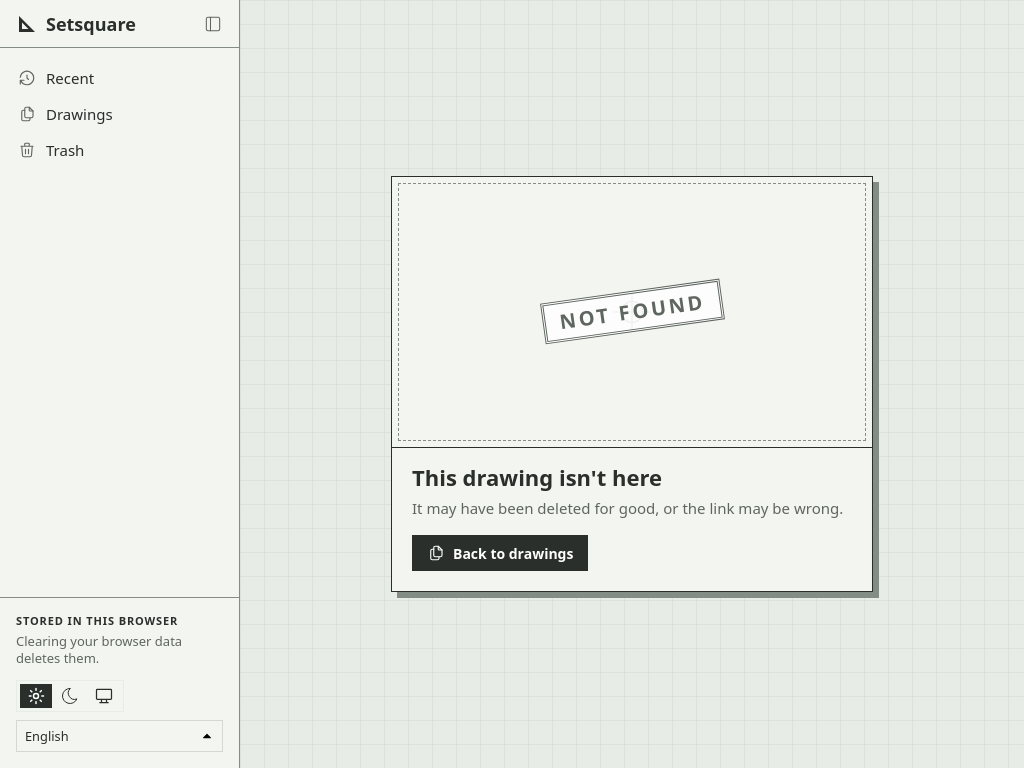
Test: web app boot › says when the drawing isn't there, and goes back to the drawings
Expected: the heading "This drawing isn't here" is shown, [412,462,662,492]
Click the button "Back to drawings" at (500, 553), box [412,535,588,571]
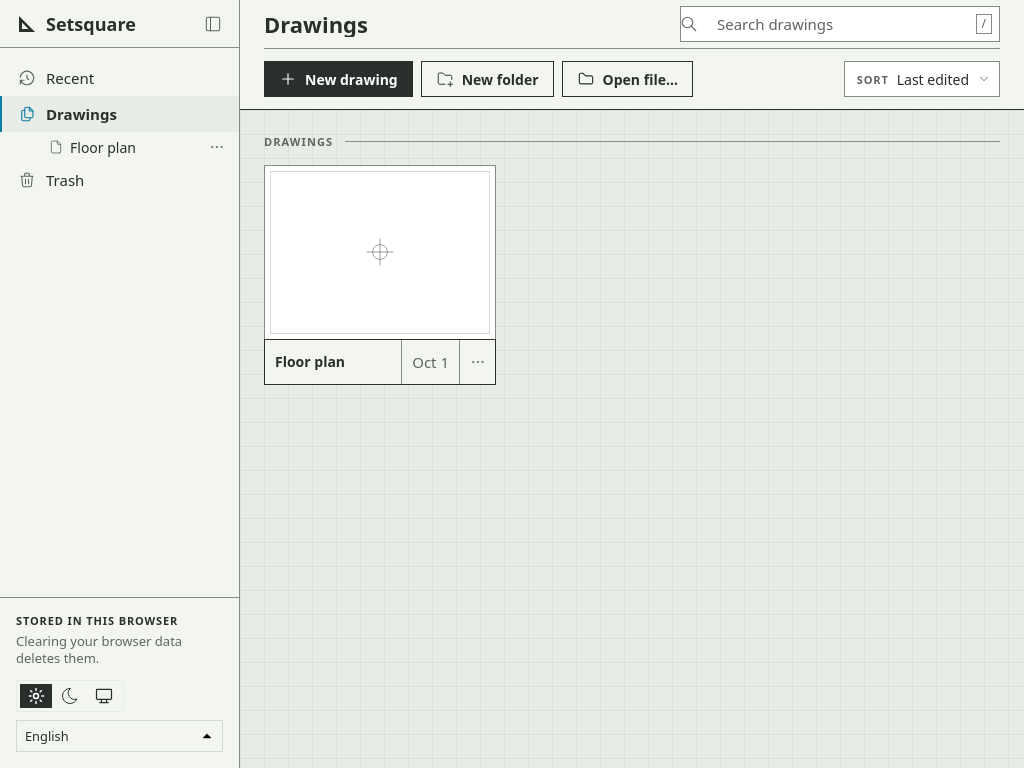
Expected: the 1st heading "Drawings" is shown, [264,11,368,37]
Expected: the link "Floor plan" next to "Oct 1" is shown, [275,352,345,371]
